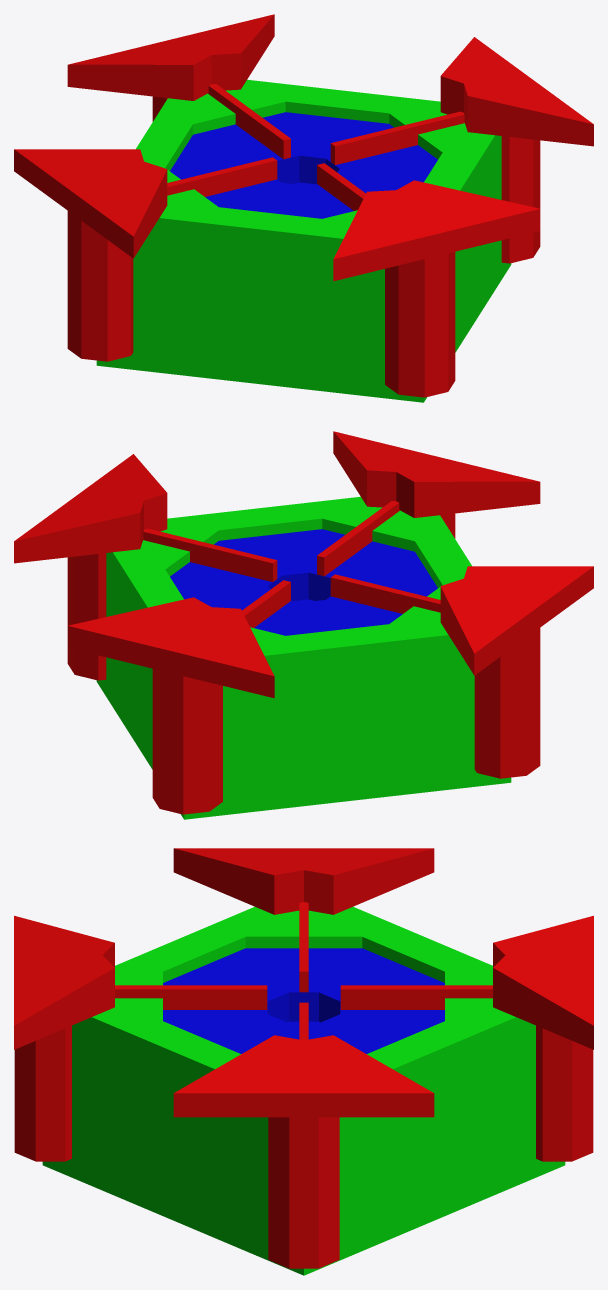
The model's file is Attacher_3.0.fbx.
3 renders of one model, top to bottom at view 1: azimuth 30°, elevation 25°; view 2: azimuth 150°, elevation 25°; view 3: azimuth 270°, elevation 25°, orthographic. The views are drawn at different scales.
Visible parts, largest first — view 1: mesh_Attacher_3.0; view 2: mesh_Attacher_3.0; view 3: mesh_Attacher_3.0.
Boxes of the visible parts, left/top/right/bottom form: mesh_Attacher_3.0: left=14, top=14, right=593, bottom=402; mesh_Attacher_3.0: left=14, top=431, right=593, bottom=819; mesh_Attacher_3.0: left=14, top=848, right=593, bottom=1275.
Bounding box in the file's own units: 434 × 173 × 434.
